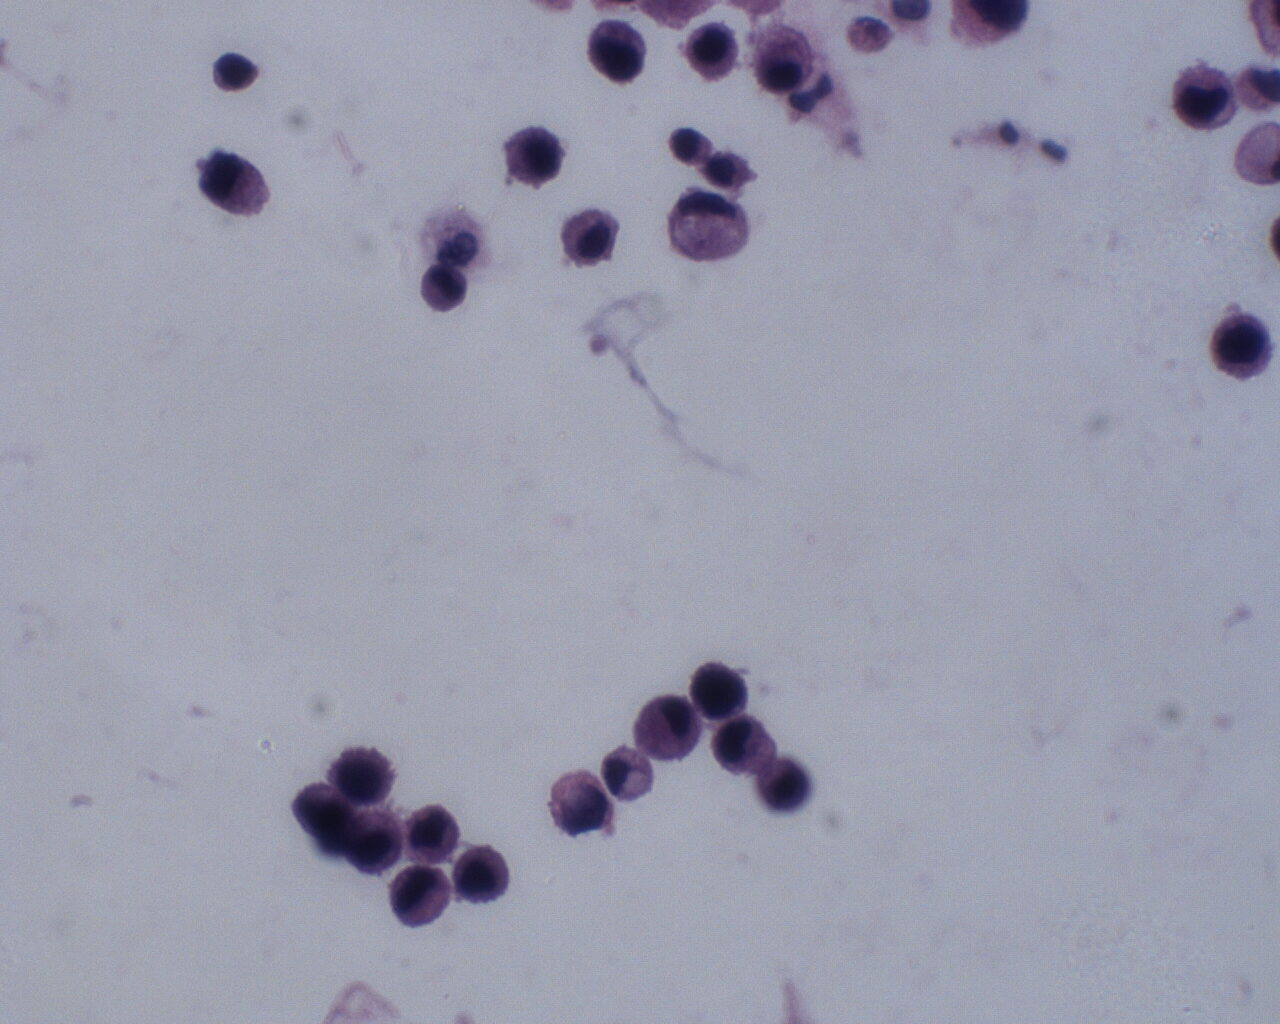ab: (1167, 59, 1241, 134), (1208, 308, 1278, 386), (544, 767, 613, 838), (327, 743, 401, 809), (689, 656, 755, 724), (587, 13, 648, 85), (391, 861, 453, 928), (404, 801, 463, 868), (450, 842, 511, 906)
histo: (665, 188, 753, 266)
meso: (744, 23, 818, 97), (630, 693, 700, 763), (499, 119, 567, 190), (679, 18, 744, 88), (556, 203, 620, 269)
